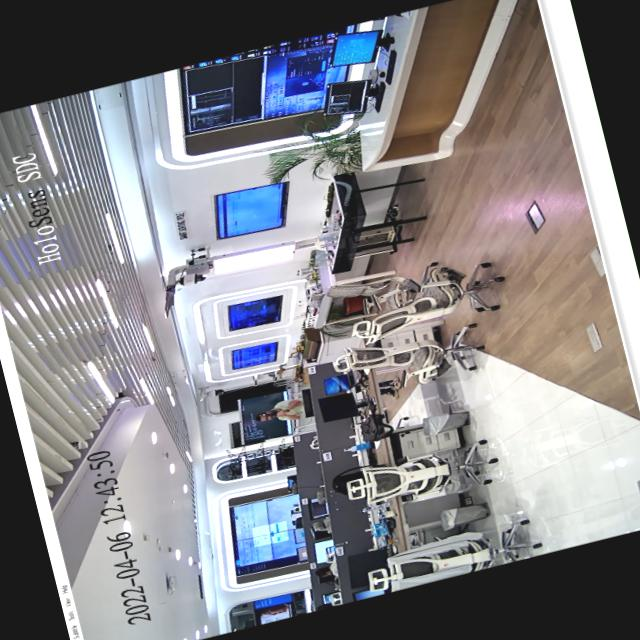long weapon: (258, 406, 288, 420)
